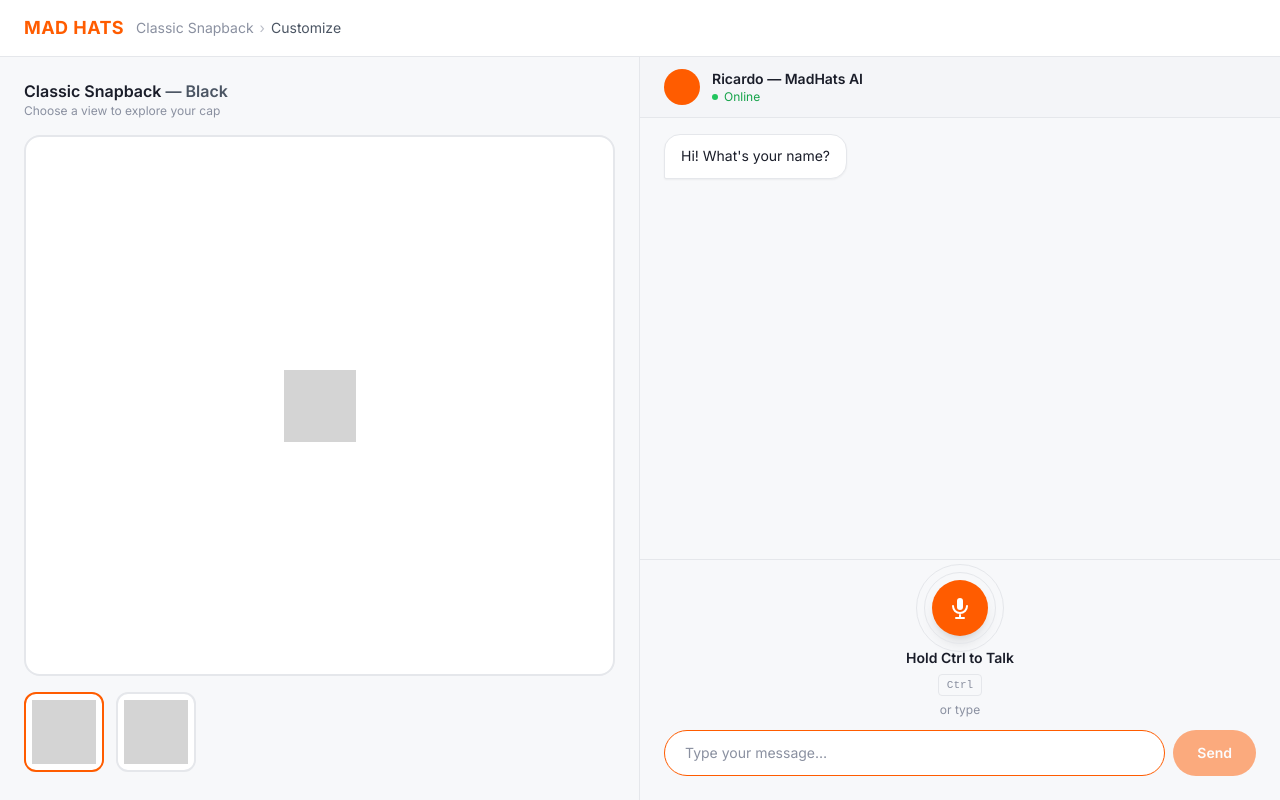
ChatPanel text input › submitting the form appends the user message and then the reply
The width and height of the screenshot is (1280, 800).
Expected: the text "Hi! What's your name?" is shown, [664, 134, 847, 179]
Type "Ada" into the field at (915, 753), box [664, 730, 1165, 776]
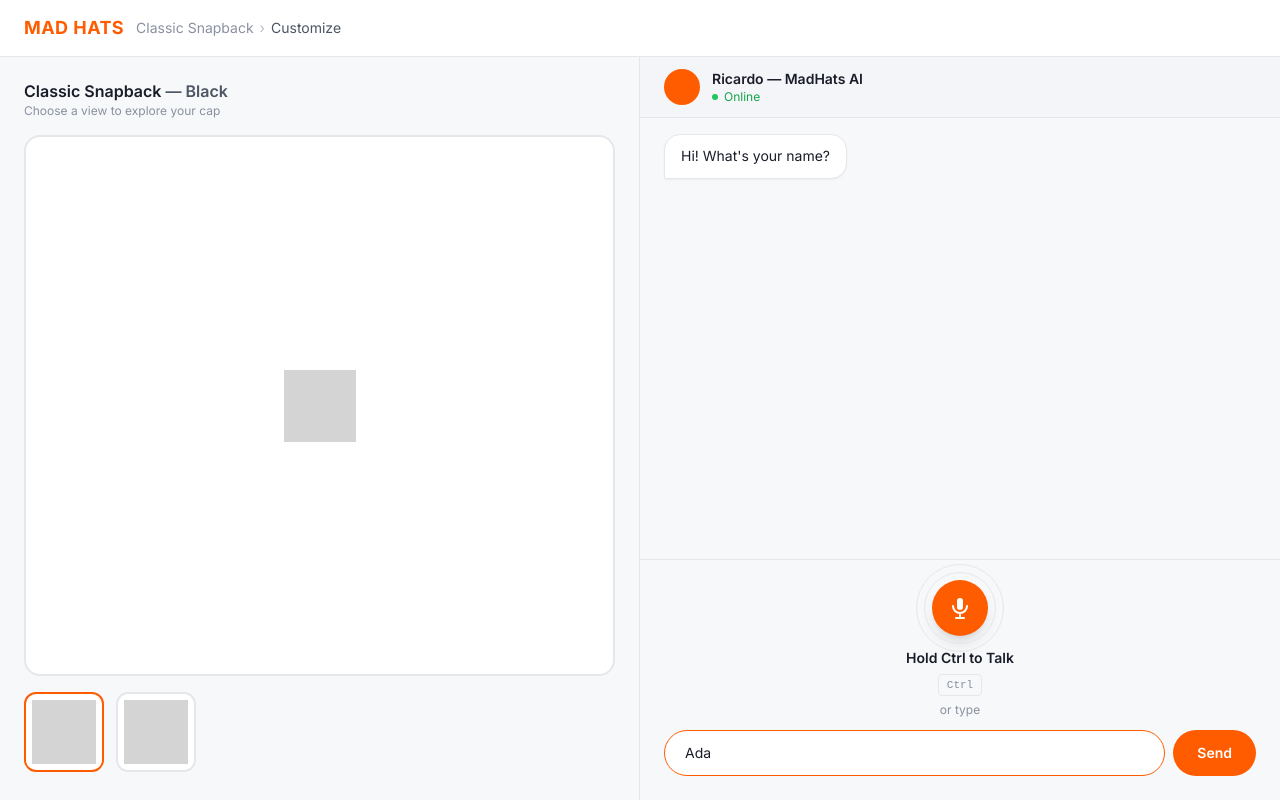
Submit the form, box [664, 730, 1256, 776]
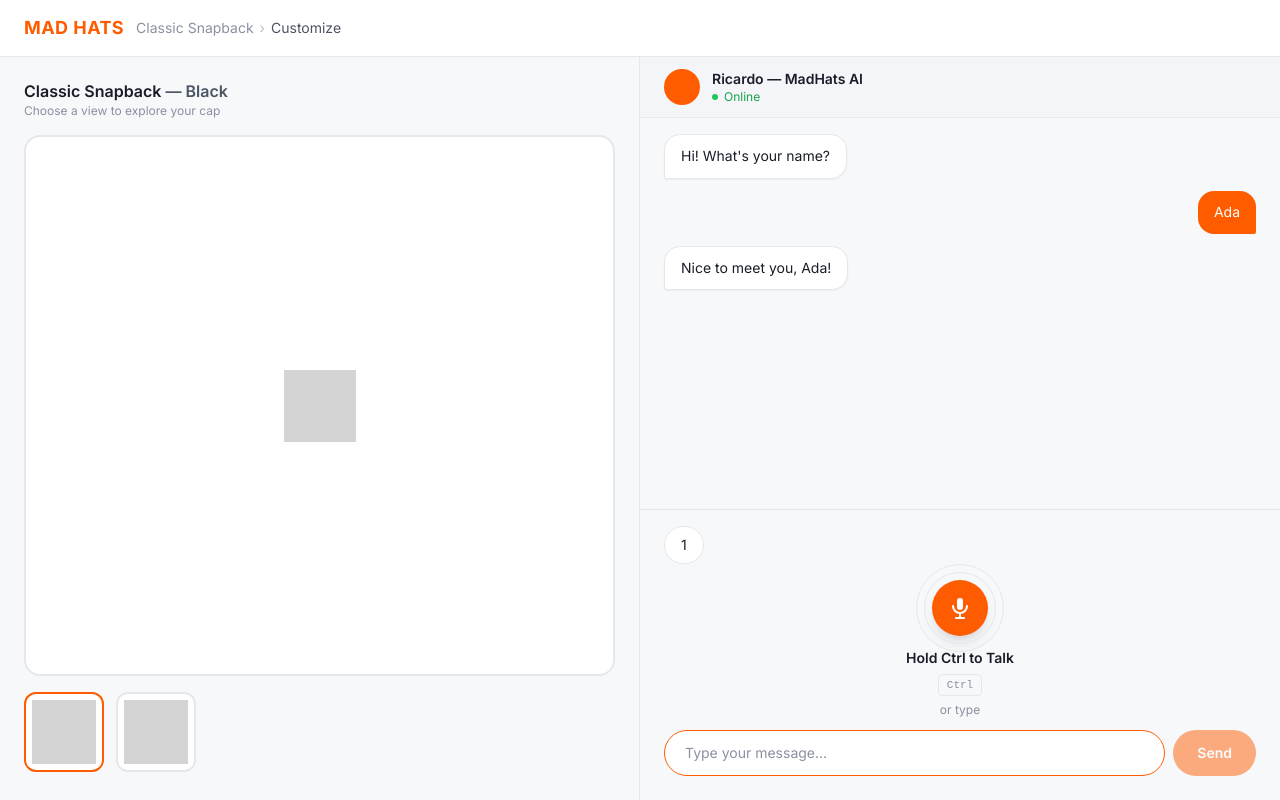
Expected: the text "Nice to meet you, Ada!" is shown, [664, 246, 848, 290]
Expected: the text "Ada" is shown, [1198, 191, 1256, 234]
